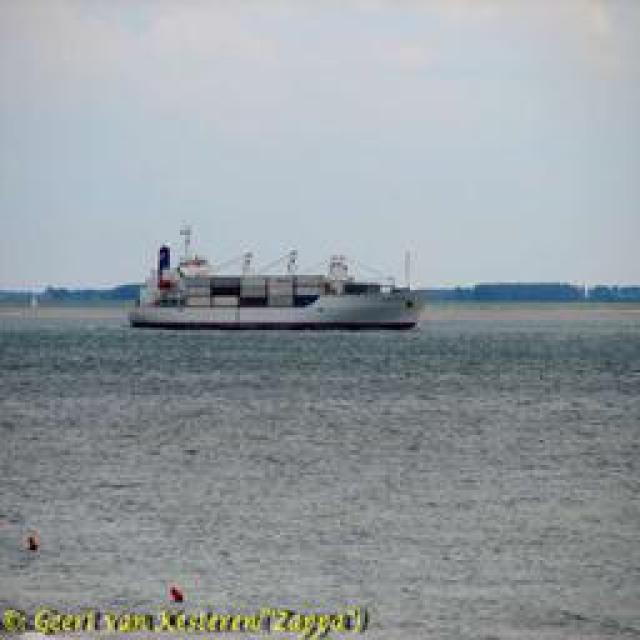Ship: (125, 225, 425, 333)
